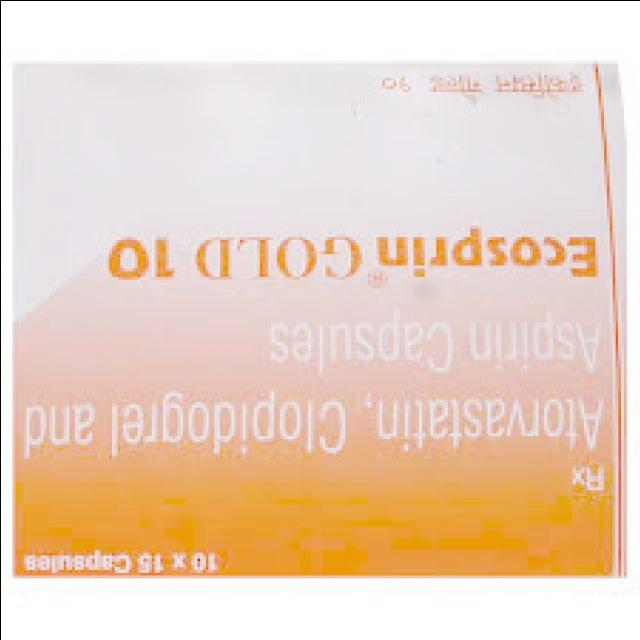authentic: (0, 43, 634, 586)
